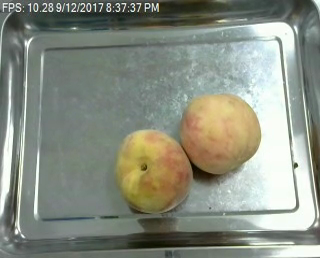Peach: (181, 92, 262, 174), (114, 128, 192, 213)
